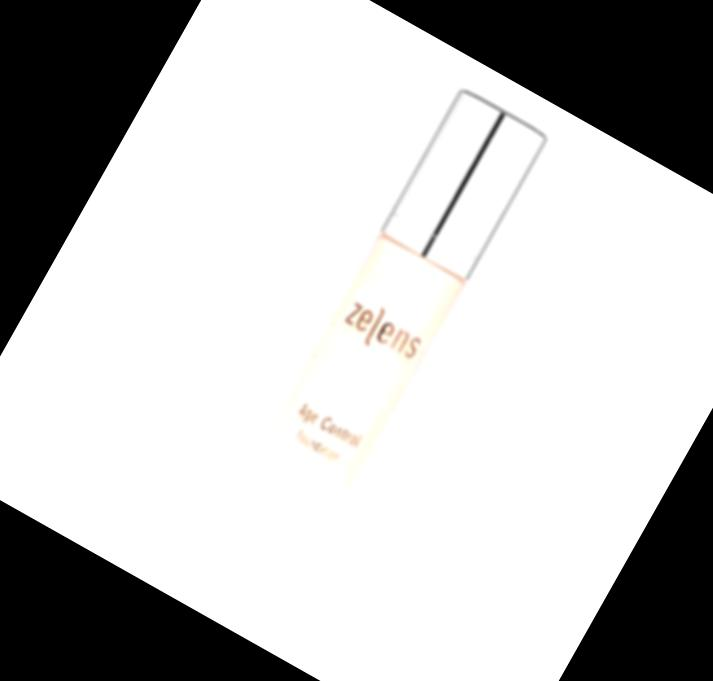cosmetic: (182, 84, 553, 631)
